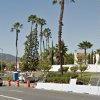Palm tree: (9, 11, 58, 67)
